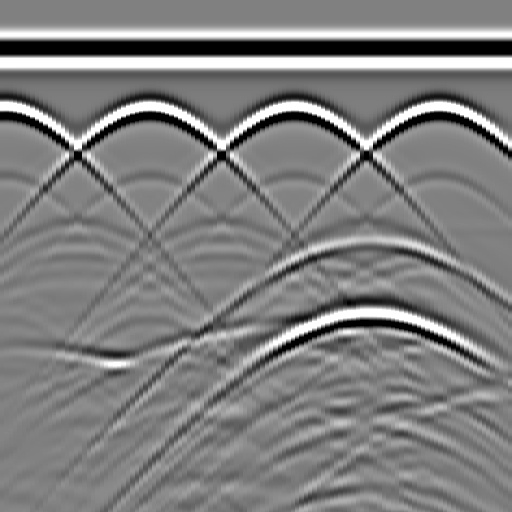grout_surface: (1, 215, 512, 245)
rebar: (127, 90, 167, 130), (271, 90, 311, 130), (416, 90, 456, 130)
rock_surface: (1, 325, 511, 397)
water_void: (337, 219, 397, 259)
